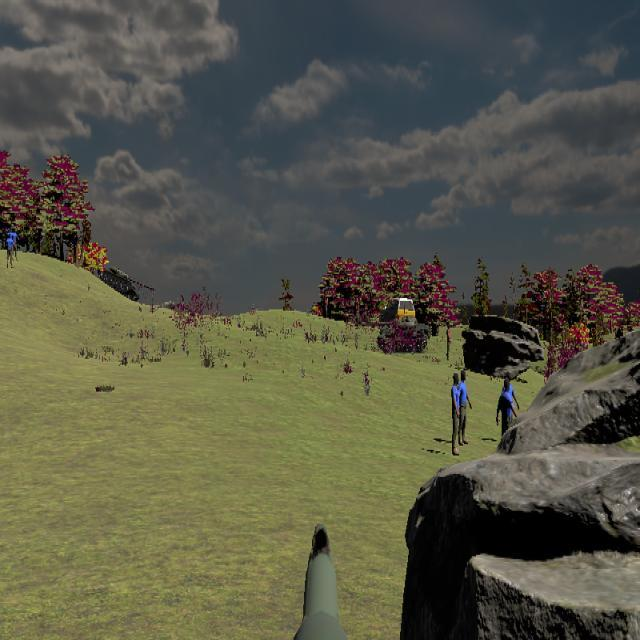Human: (496, 377, 520, 447), (456, 370, 472, 447), (450, 371, 462, 450)
Tank: (82, 261, 155, 302)
